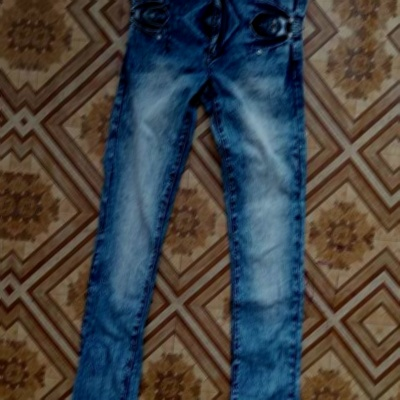Pants: (56, 15, 347, 400), (91, 0, 381, 26)
